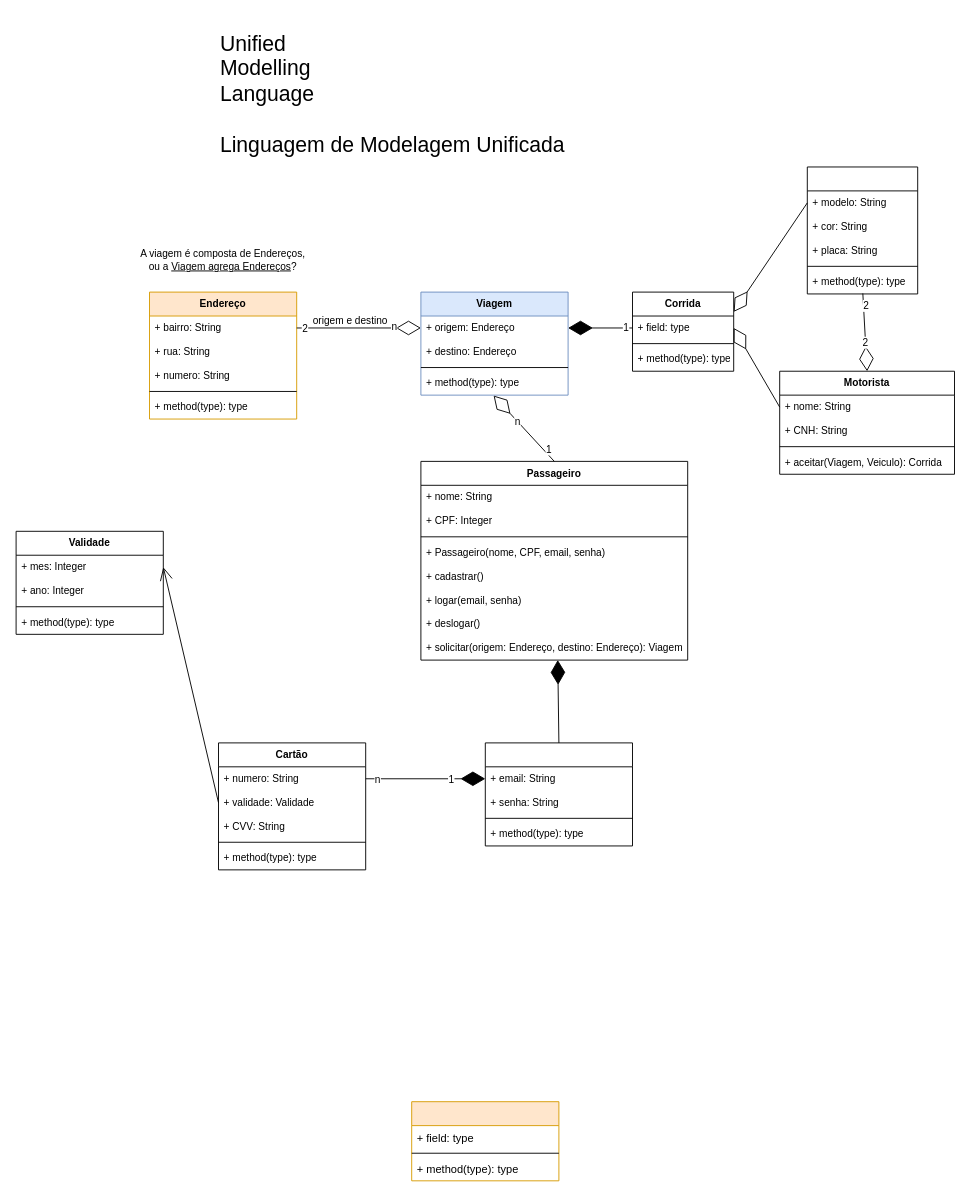
The diagram is 971 pixels wide and 1199 high, and some of its shapes have lost their labels. Here are the shapes that lost their labels. From the top down, the box of each, then its label:
(806, 166, 918, 294): Veículo
(484, 742, 632, 846): Conta
(411, 1101, 559, 1181): Classname
